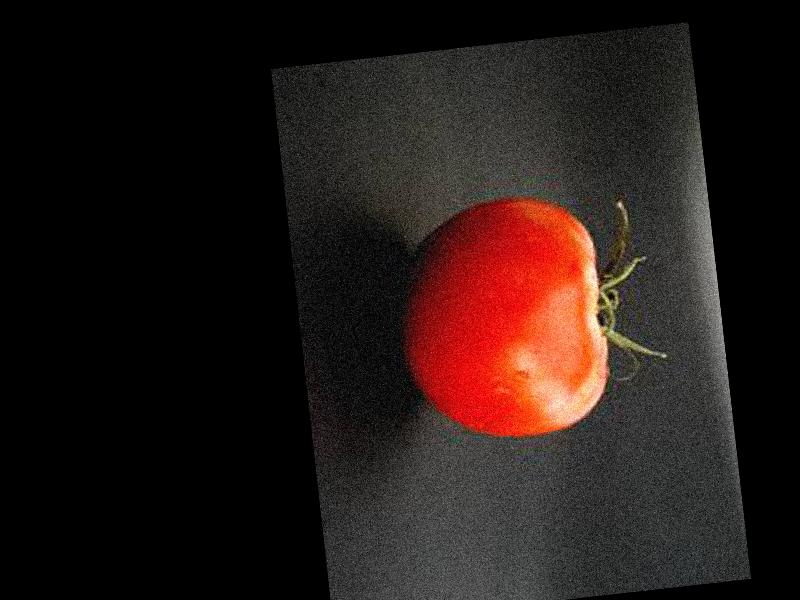Tomato: (390, 191, 615, 450)
